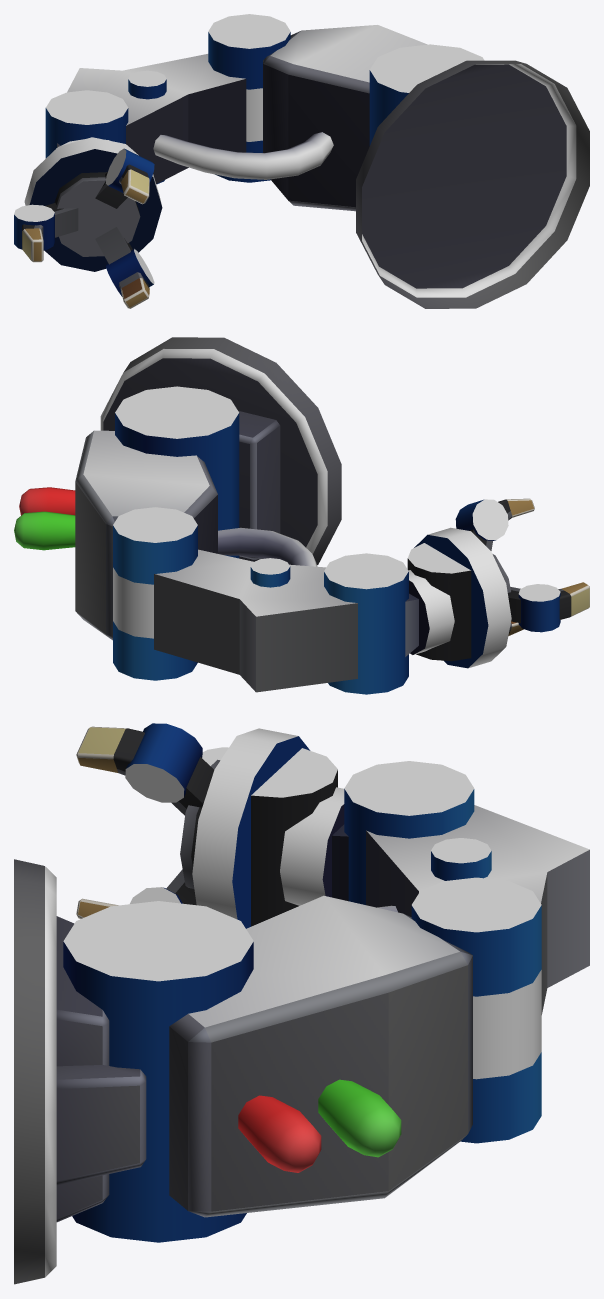
File: GarysLabArm.fbx
The picture shows the model from 3 angles, top to bottom: view 1: azimuth 30°, elevation 25°; view 2: azimuth 150°, elevation 25°; view 3: azimuth 270°, elevation 25°; orthographic projection. The views are drawn at different scales.
Parts seen in each view (by area): view 1: GarysLabArm; view 2: GarysLabArm; view 3: GarysLabArm.
Boxes of the visible parts, x1,y1,x2,y2 form: GarysLabArm: (14, 14, 589, 308); GarysLabArm: (14, 337, 589, 694); GarysLabArm: (14, 723, 589, 1284).
Size of the model in its own units: 124 by 56.25 by 76.17.
